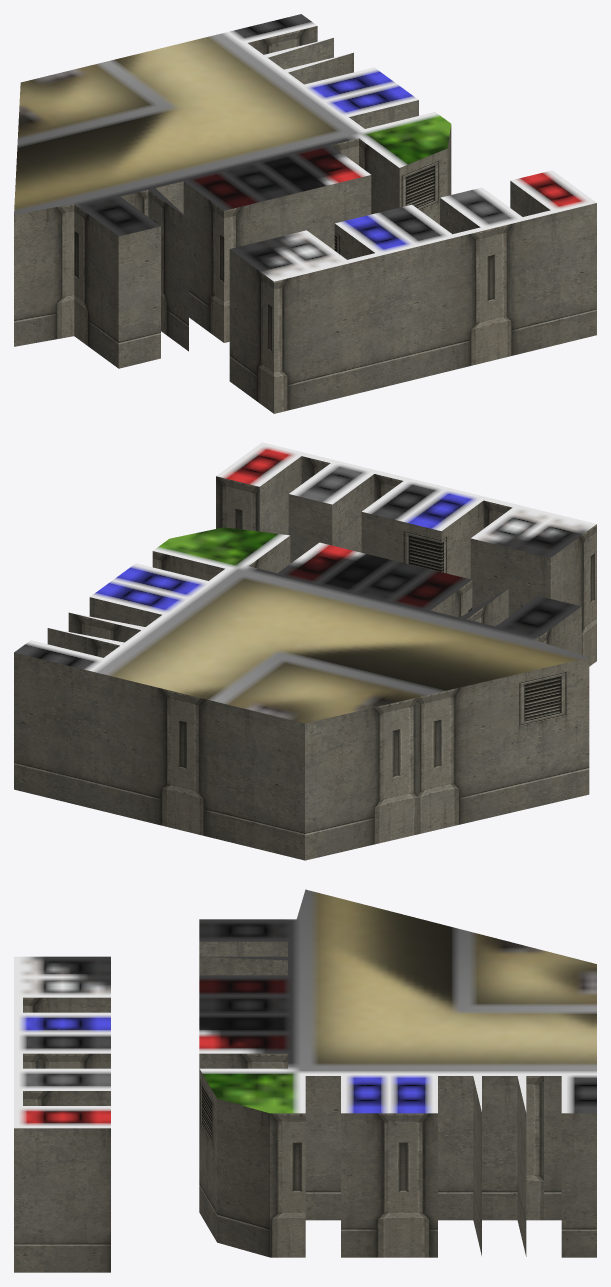
The model's file is BuildingSystem-03-Advance-04-ReinforcedLow-C-100-03.glb.
The picture shows the model from 3 angles, top to bottom: view 1: azimuth 30°, elevation 25°; view 2: azimuth 150°, elevation 25°; view 3: azimuth 270°, elevation 25°; orthographic projection. The views are drawn at different scales.
Parts seen in each view (by area): view 1: buildings/saxarba/SMV_Buildings/BuildingSystem-03-Advance-04; view 2: buildings/saxarba/SMV_Buildings/BuildingSystem-03-Advance-04; view 3: buildings/saxarba/SMV_Buildings/BuildingSystem-03-Advance-04.
Part boxes in pixels (x1,y1,x2,y2): buildings/saxarba/SMV_Buildings/BuildingSystem-03-Advance-04: [14, 14, 596, 413]; buildings/saxarba/SMV_Buildings/BuildingSystem-03-Advance-04: [14, 442, 596, 860]; buildings/saxarba/SMV_Buildings/BuildingSystem-03-Advance-04: [14, 889, 596, 1272].
Bounding box in the file's own units: 64 × 18 × 66.
